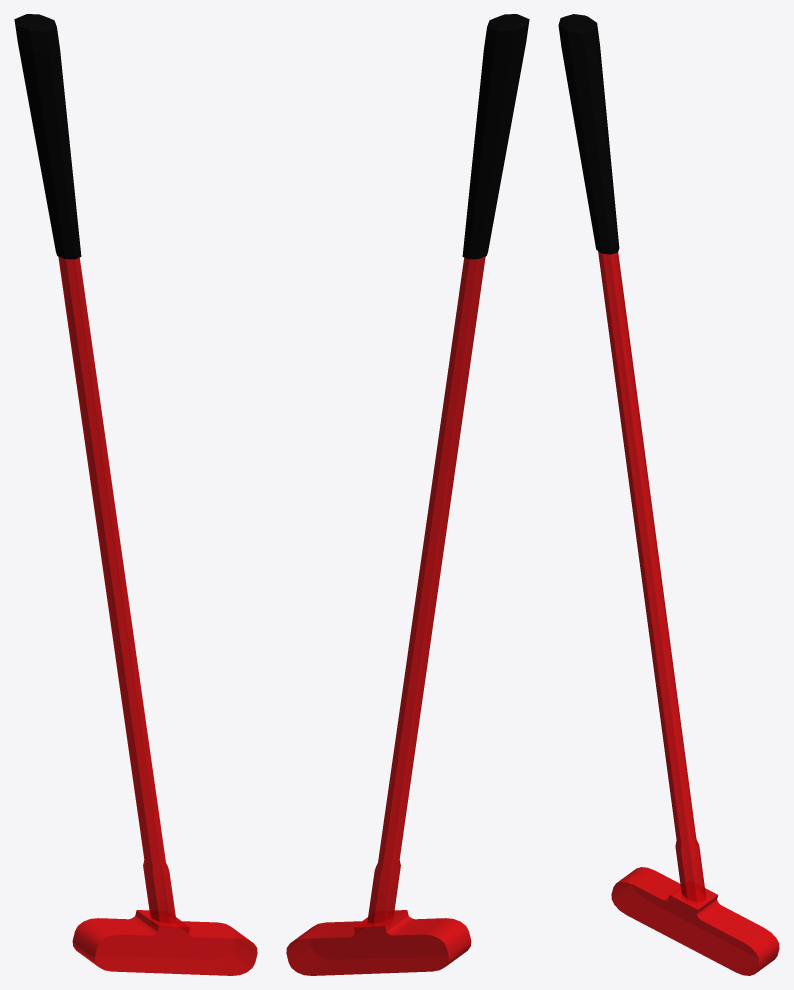
Rendered from Ruby Club.glb.
3 renders of one model, left to right at view 1: azimuth 30°, elevation 25°; view 2: azimuth 150°, elevation 25°; view 3: azimuth 330°, elevation 25°, orthographic. The views are drawn at different scales.
Visible parts, largest first — view 1: Ruby Club.001; view 2: Ruby Club.001; view 3: Ruby Club.001.
Part boxes in pixels (box(x1,y1,x2,y2)): Ruby Club.001: box(14, 14, 257, 975); Ruby Club.001: box(286, 14, 529, 975); Ruby Club.001: box(558, 14, 779, 975).
Size of the model in its own units: 0.2285 by 0.9469 by 0.0385.
